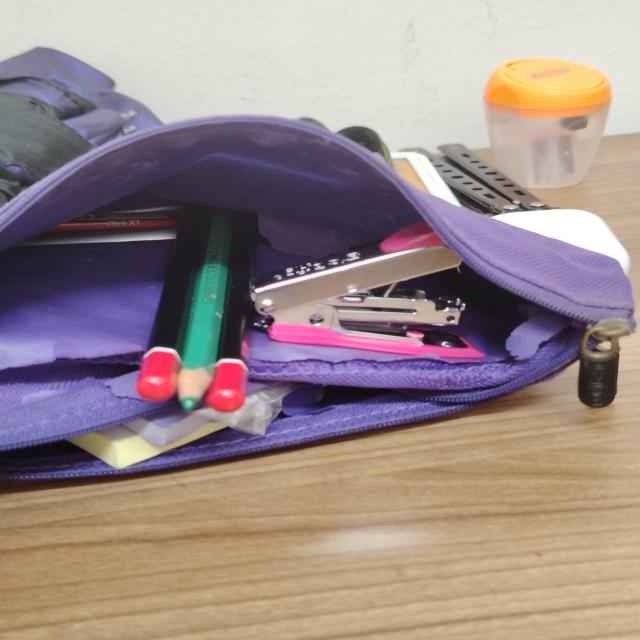pencil: (136, 212, 208, 402), (206, 212, 259, 412), (177, 214, 231, 410)
sharpener: (484, 58, 611, 188)
stapler: (252, 222, 484, 359)
